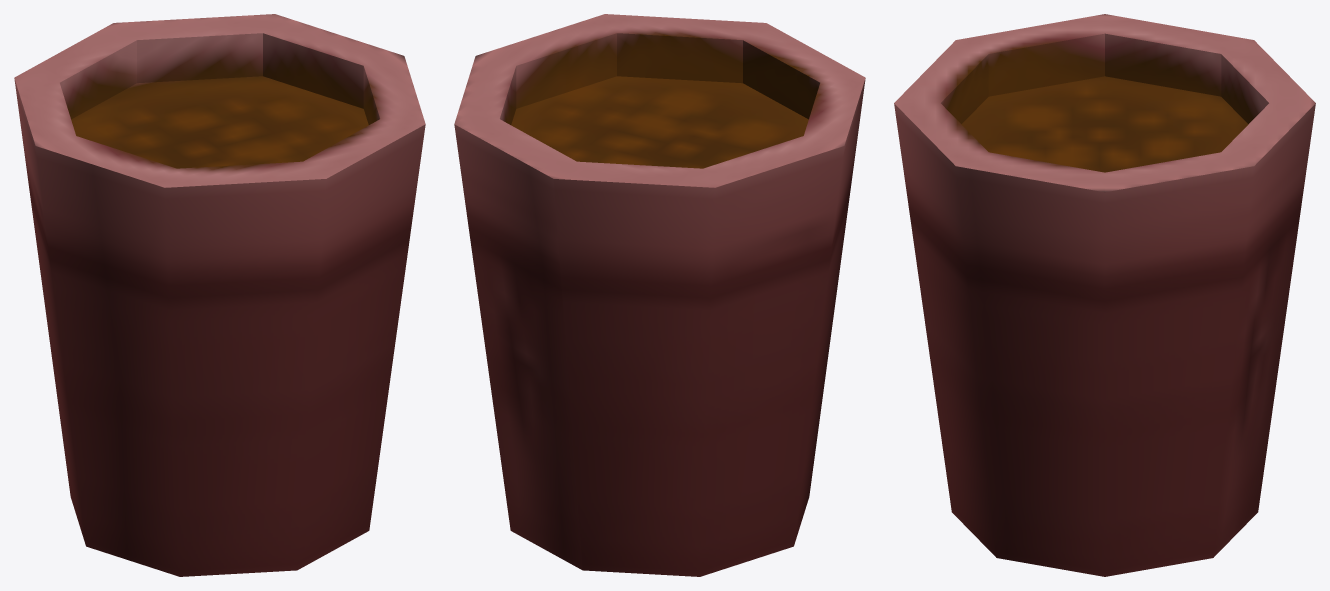
Rendered from tob.FBX.
3 views of the same model, side by side, from view 1: azimuth 30°, elevation 25°; view 2: azimuth 150°, elevation 25°; view 3: azimuth 270°, elevation 25° (orthographic).
Parts seen in each view (by area): view 1: Cylinder001; view 2: Cylinder001; view 3: Cylinder001.
Part boxes in pixels (x1,y1,x2,y2): Cylinder001: [14, 14, 425, 576]; Cylinder001: [454, 14, 865, 576]; Cylinder001: [894, 14, 1315, 576].
Size of the model in its own units: 30.01 by 32.1 by 30.01.
